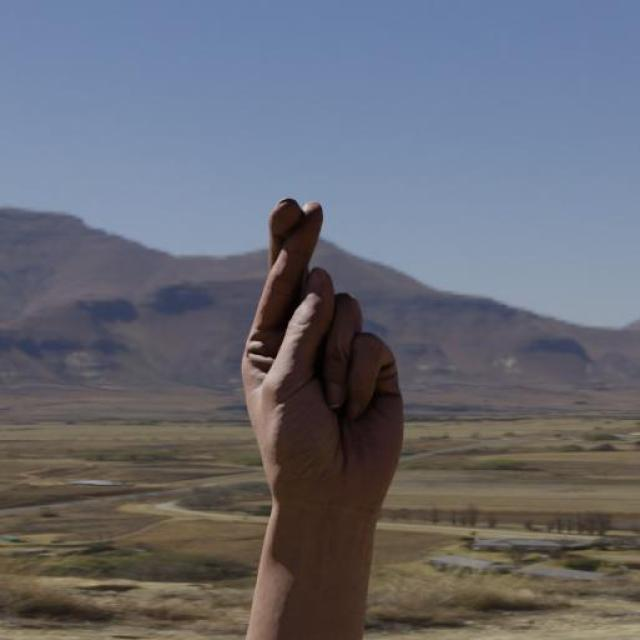R: (238, 195, 407, 517)
